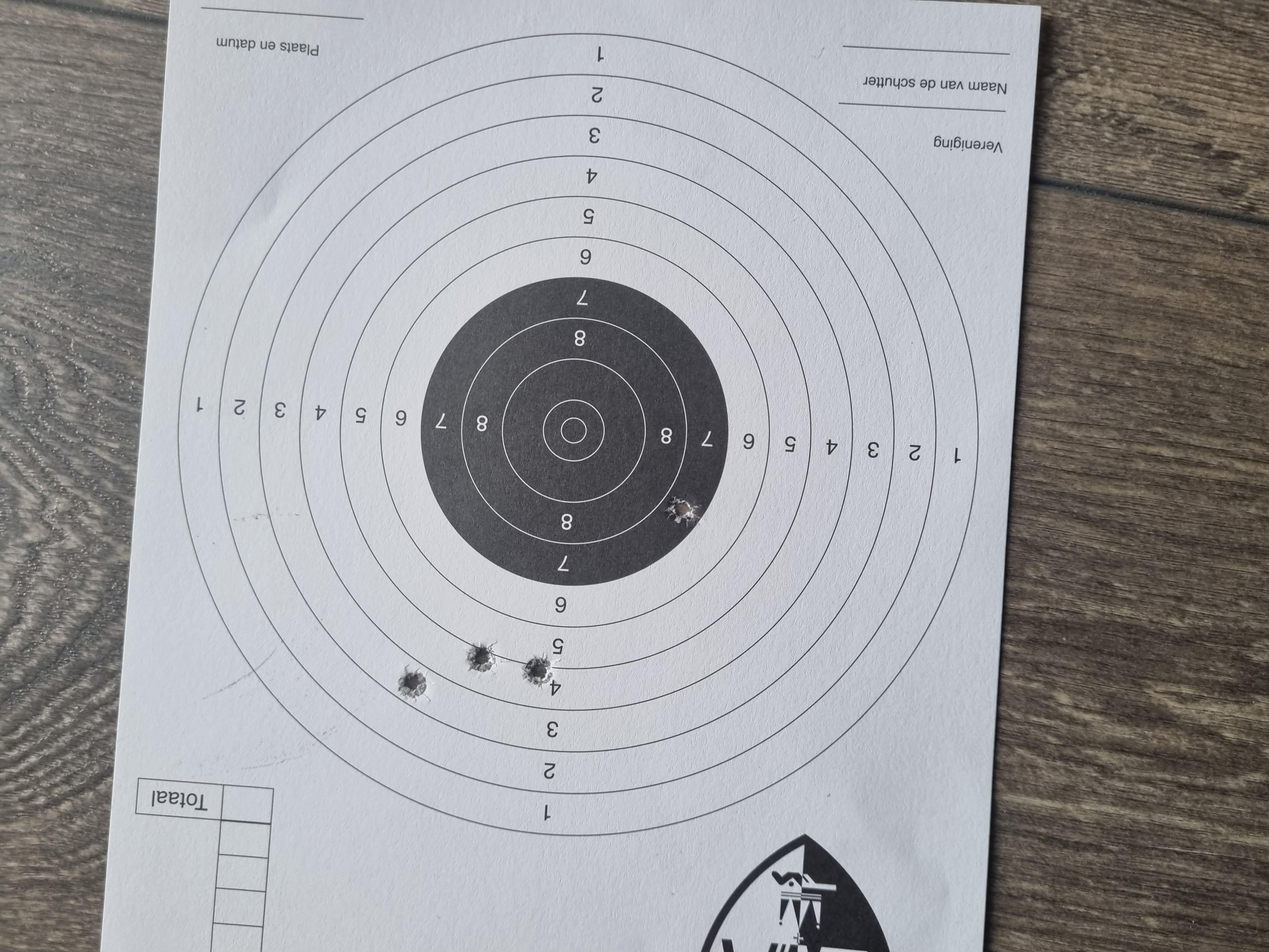hole: (333, 298, 382, 321), (568, 499, 607, 526), (355, 392, 400, 415), (373, 350, 417, 373)
